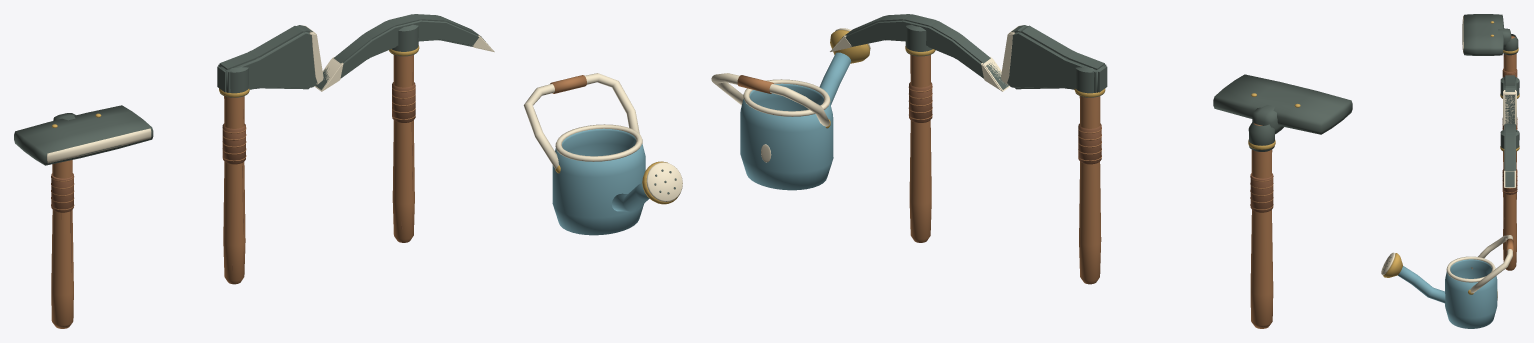
File: FarmTools.fbx
The picture shows the model from 3 angles, left to right: view 1: azimuth 30°, elevation 25°; view 2: azimuth 150°, elevation 25°; view 3: azimuth 270°, elevation 25°; orthographic projection. The views are drawn at different scales.
Parts seen in each view (by area): view 1: IslandWateringCan, IslandAxe, IslandHoe, IslandPickaxe; view 2: IslandWateringCan, IslandHoe, IslandAxe, IslandPickaxe; view 3: IslandWateringCan, IslandHoe, IslandPickaxe, IslandAxe.
Boxes of the visible parts, left/top/right/bottom form: IslandWateringCan: left=523, top=73, right=682, bottom=235; IslandAxe: left=217, top=25, right=323, bottom=284; IslandHoe: left=14, top=105, right=153, bottom=328; IslandPickaxe: left=314, top=14, right=494, bottom=242; IslandWateringCan: left=711, top=28, right=870, bottom=190; IslandHoe: left=1213, top=74, right=1352, bottom=328; IslandAxe: left=1001, top=25, right=1107, bottom=284; IslandPickaxe: left=830, top=14, right=1009, bottom=242; IslandWateringCan: left=1381, top=235, right=1513, bottom=328; IslandHoe: left=1462, top=14, right=1518, bottom=161; IslandPickaxe: left=1500, top=123, right=1519, bottom=270; IslandAxe: left=1500, top=75, right=1519, bottom=204.
Size of the model in its own units: 253 by 94.7 by 78.39.
